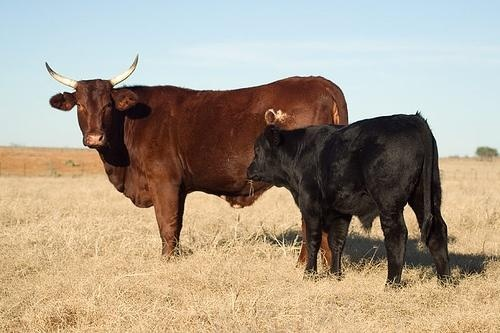cow: (42, 56, 351, 271), (248, 113, 458, 289)
